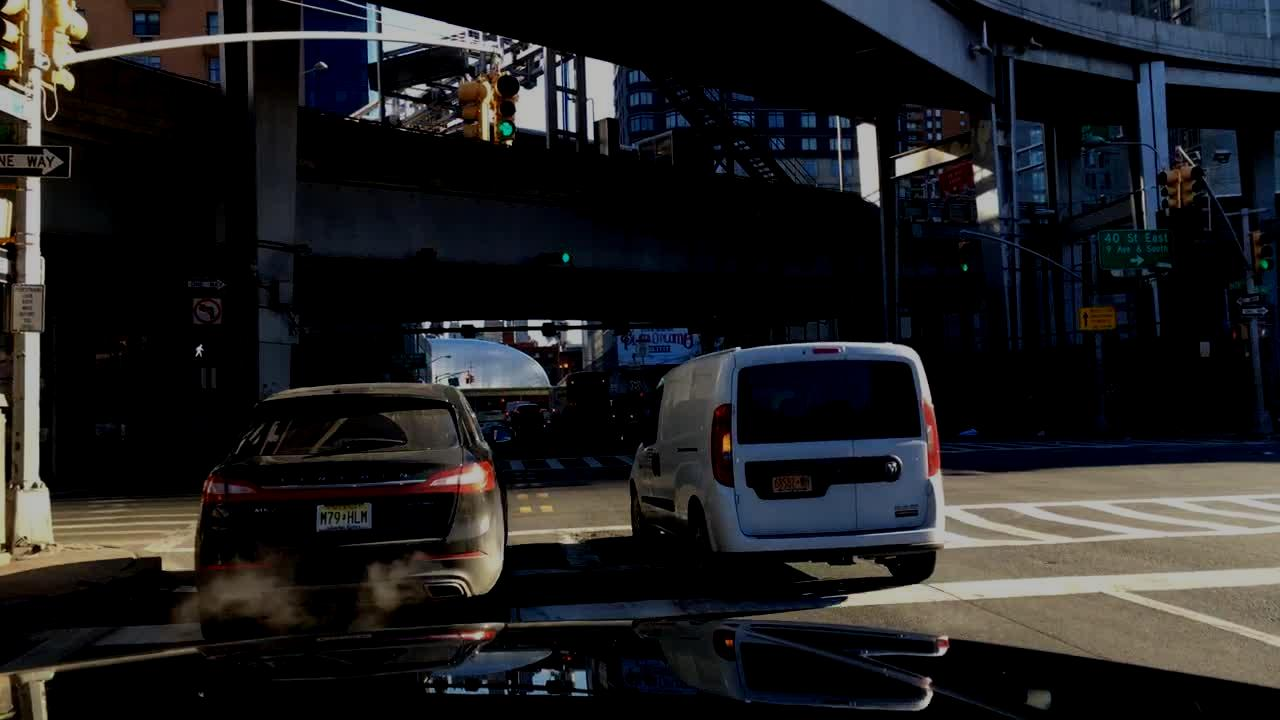lincoln: (267, 466, 419, 488)
